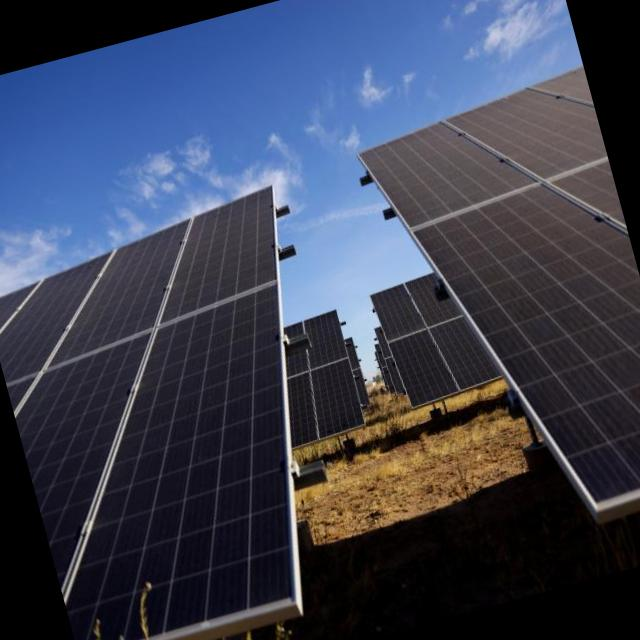no faulty: (70, 286, 303, 640), (413, 181, 640, 503), (14, 332, 157, 588), (43, 219, 190, 366), (363, 121, 534, 224), (162, 186, 273, 321), (0, 254, 109, 383), (457, 92, 604, 174)
